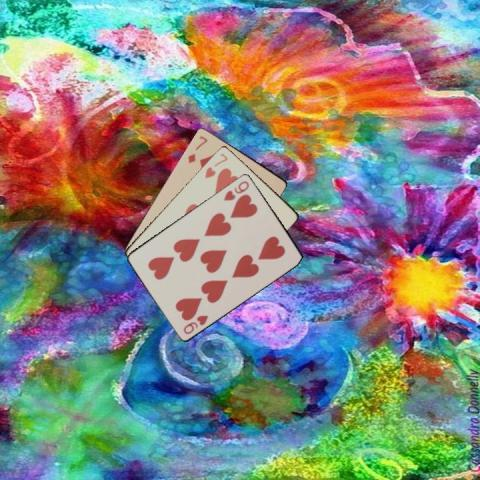7d: (184, 133, 208, 164)
7h: (202, 150, 230, 179)
9h: (220, 177, 250, 202), (180, 312, 210, 335)
